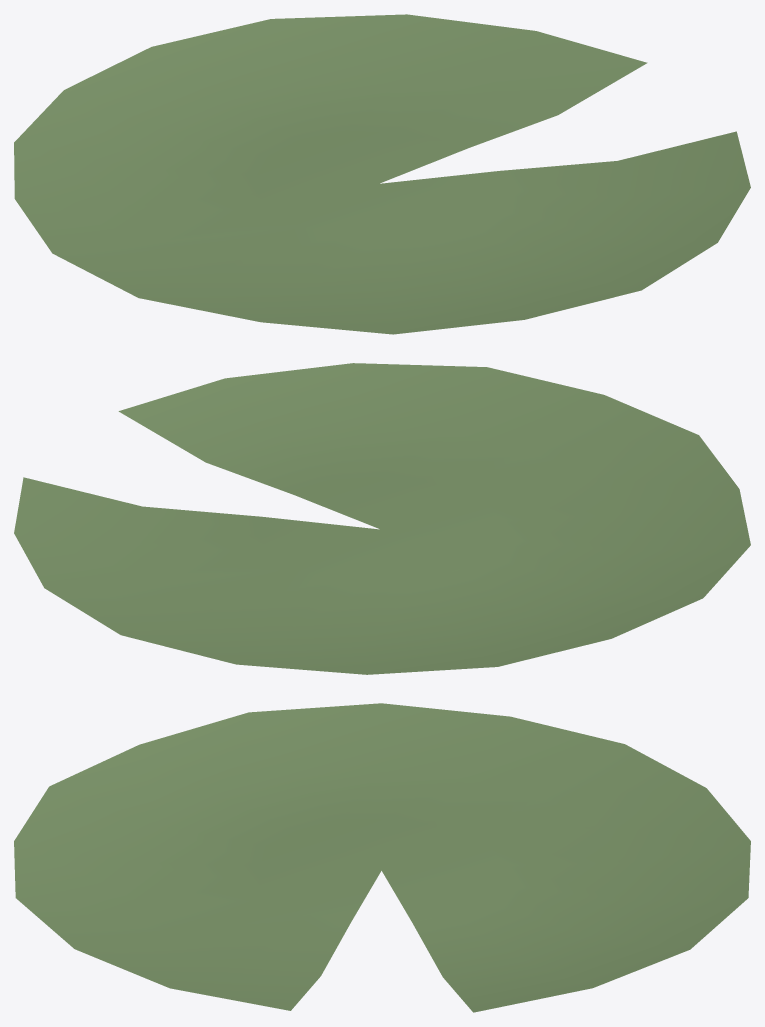
The model's file is lily_pad.glb.
3 renders of one model, top to bottom at view 1: azimuth 30°, elevation 25°; view 2: azimuth 150°, elevation 25°; view 3: azimuth 270°, elevation 25°, orthographic.
Parts seen in each view (by area): view 1: lily_pad; view 2: lily_pad; view 3: lily_pad.
Boxes of the visible parts, x1,y1,x2,y2 form: lily_pad: [14, 14, 750, 334]; lily_pad: [14, 363, 750, 674]; lily_pad: [14, 703, 750, 1012].
Size of the model in its own units: 0.6717 by 0.0153 by 0.676.
